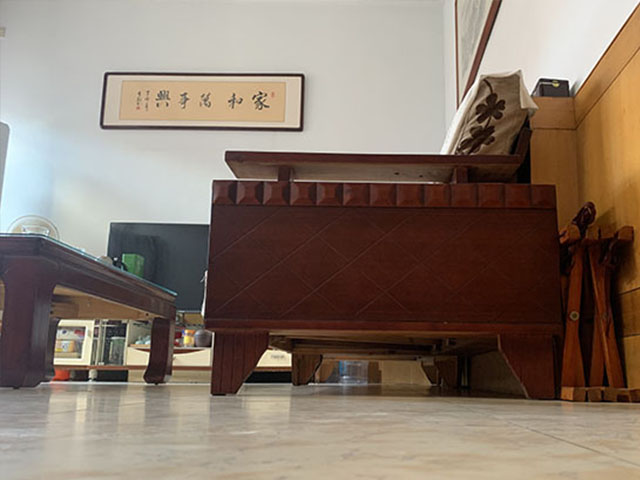cabinet: (56, 315, 205, 382)
sofa: (209, 72, 566, 401)
stool: (561, 201, 640, 405)
table: (1, 229, 179, 390)
